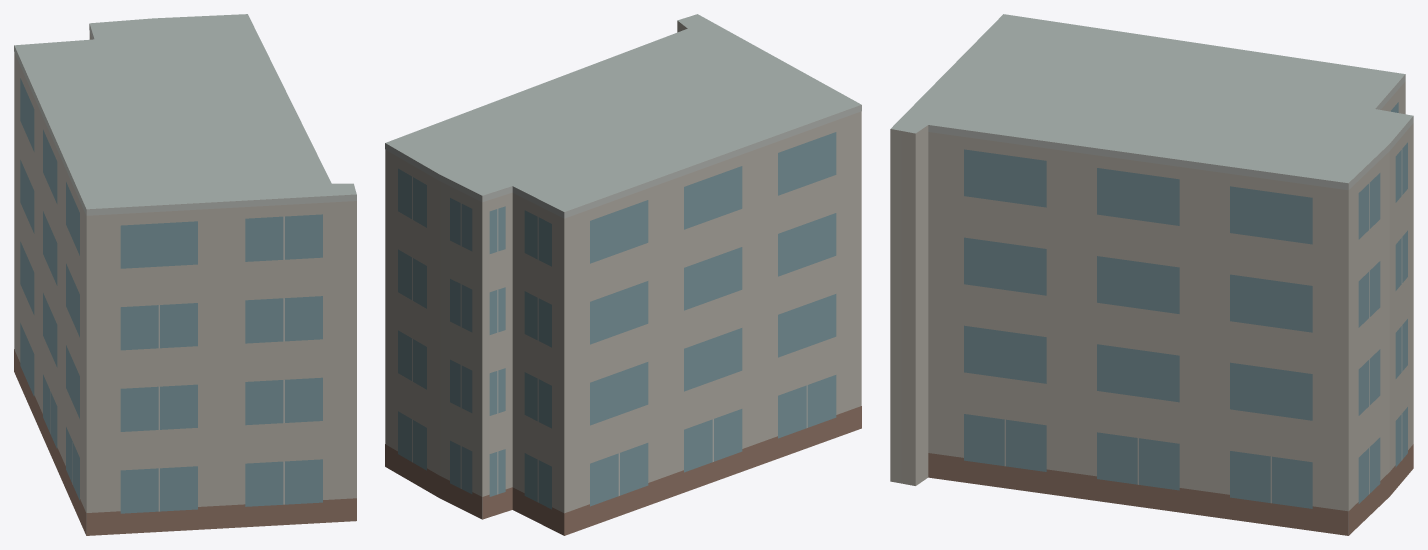
Rendered from survey-upis-32667970.glb.
3 renders of one model, left to right at view 1: azimuth 30°, elevation 25°; view 2: azimuth 150°, elevation 25°; view 3: azimuth 270°, elevation 25°, orthographic. The views are drawn at different scales.
Parts seen in each view (by area): view 1: survey-upis-32667970.tmp; view 2: survey-upis-32667970.tmp; view 3: survey-upis-32667970.tmp.
Boxes of the visible parts, x1=… form: survey-upis-32667970.tmp: x1=14, y1=14, x2=356, y2=535; survey-upis-32667970.tmp: x1=385, y1=14, x2=861, y2=535; survey-upis-32667970.tmp: x1=890, y1=14, x2=1413, y2=535.
Bounding box in the file's own units: 12.57 × 12.2 × 16.41.
